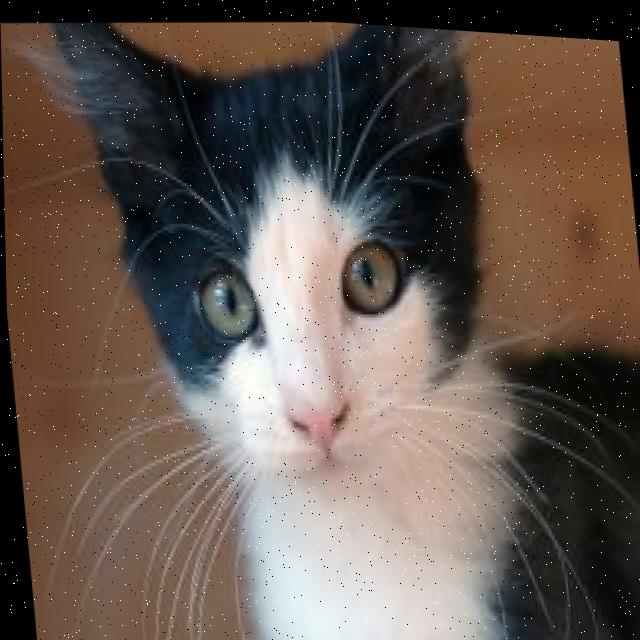Tuxedo: (32, 2, 640, 640)
